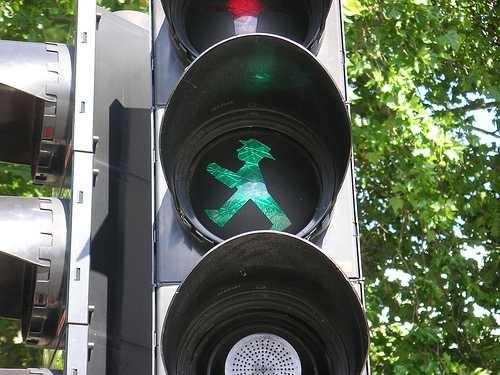green: (162, 77, 345, 261)
